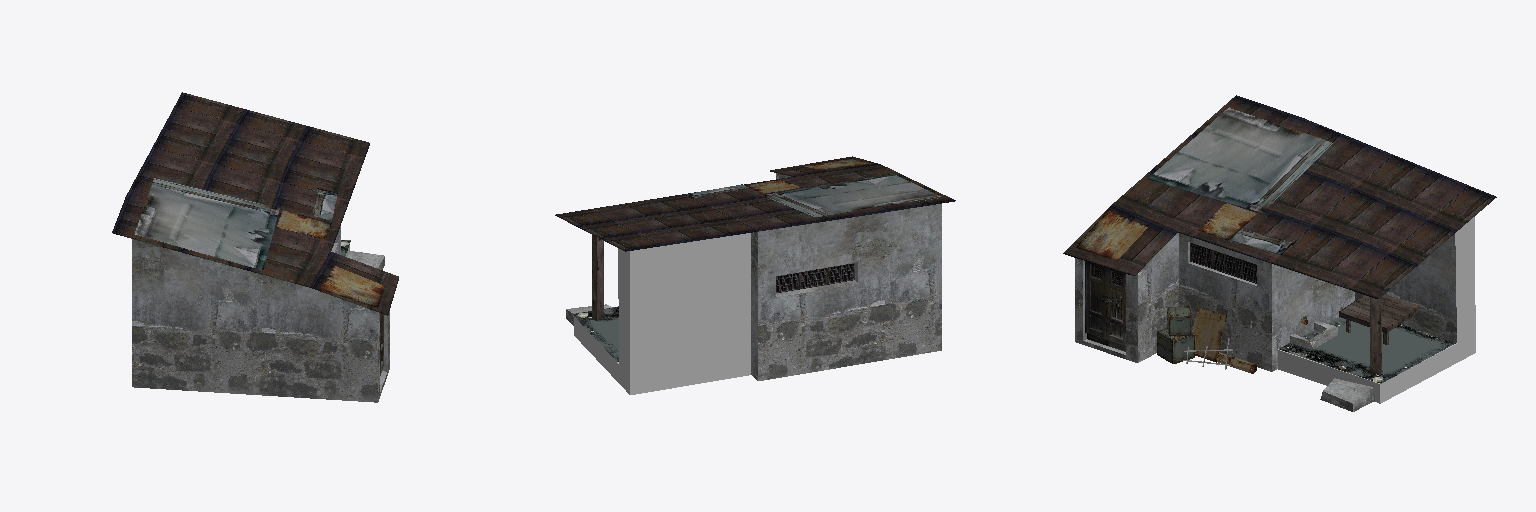
3 views of the same model, side by side, from view 1: azimuth 30°, elevation 25°; view 2: azimuth 150°, elevation 25°; view 3: azimuth 270°, elevation 25° (orthographic).
Size of the model in its own units: 246 by 114 by 279.
Materials: 11 (10 with a texture image).